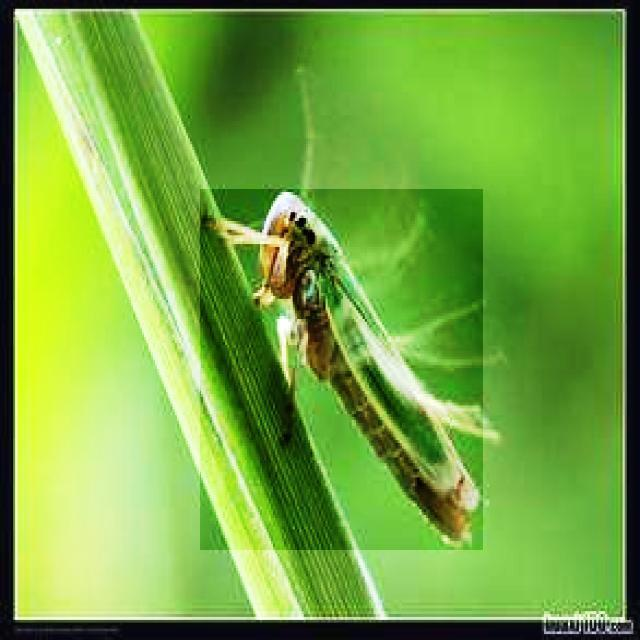green-leafhopper: (201, 189, 483, 550)
